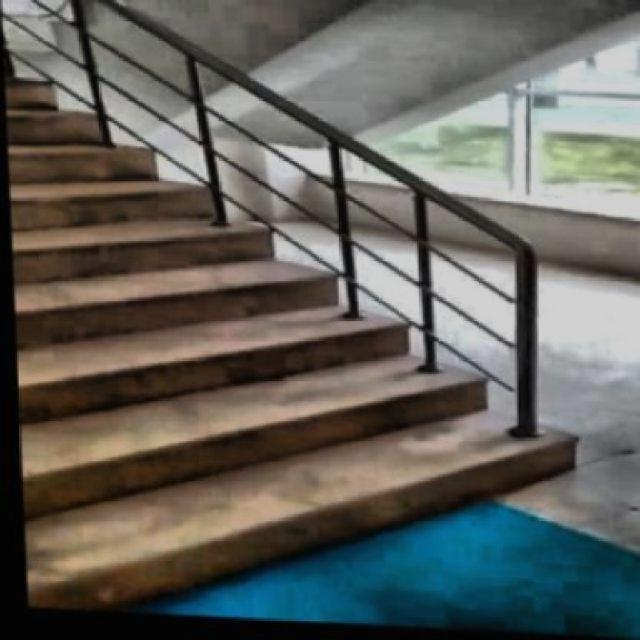stair: (3, 8, 606, 637)
